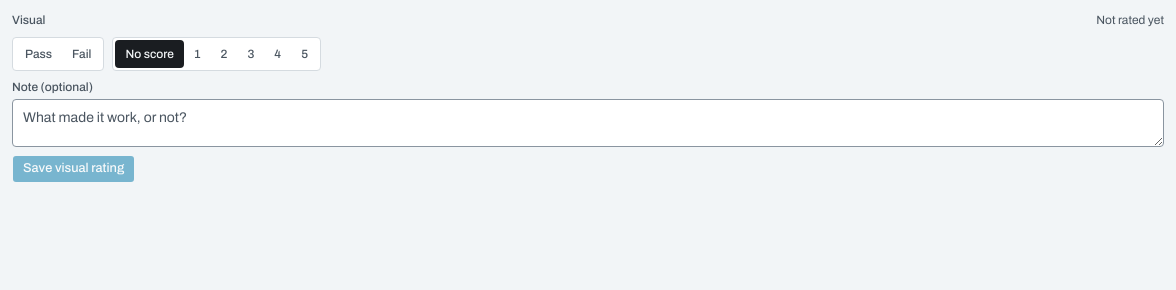
Test: RatingControl fail-reason chips › sends the selected reasons and toggles them off again
Click the button "Fail" at x=82, y=54, box left=62, top=40, right=101, bottom=68
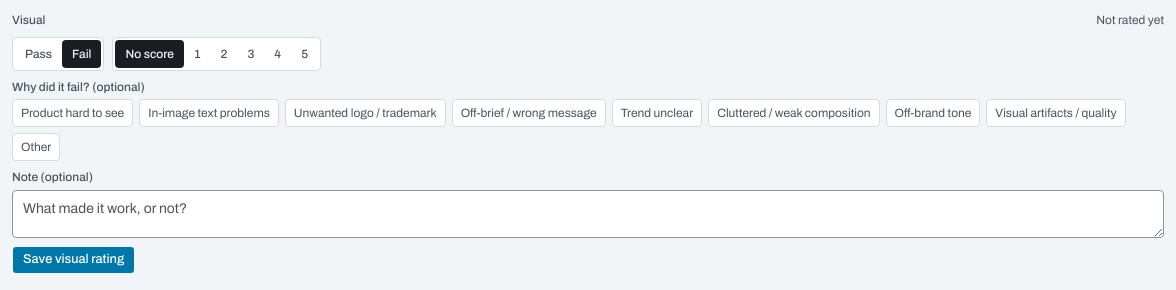
Click the button "Product hard to see" at x=73, y=113, box left=12, top=99, right=133, bottom=127
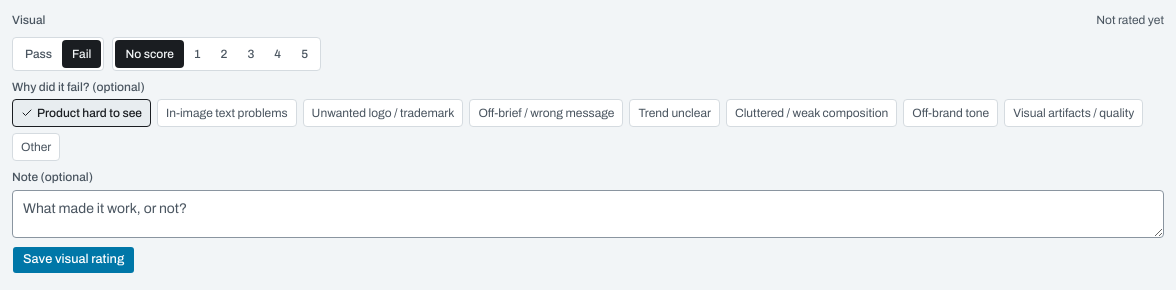
Click the button "In-image text problems" at x=227, y=113, box left=157, top=99, right=297, bottom=127
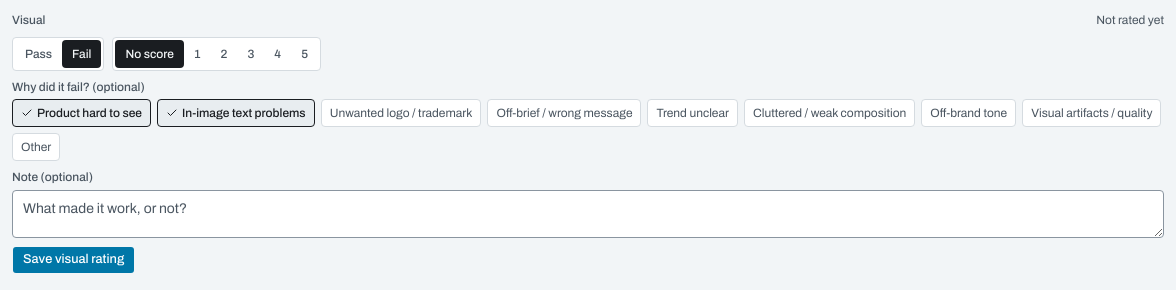
Click the button "Trend unclear" at x=693, y=113, box left=648, top=99, right=738, bottom=127
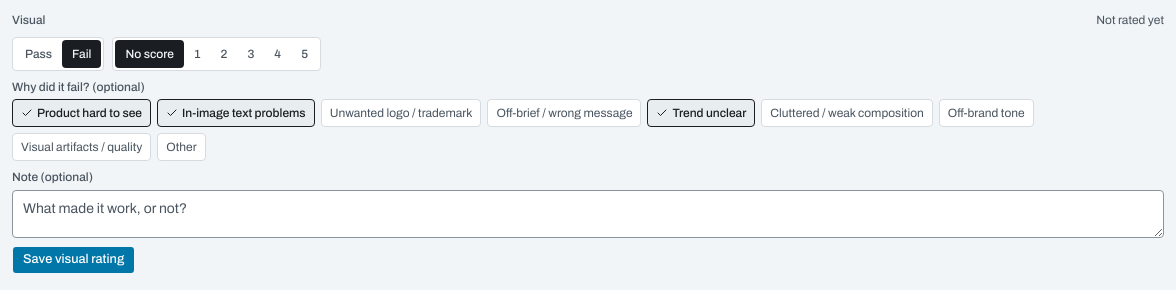
Click the button "Trend unclear" at x=701, y=113, box left=648, top=99, right=755, bottom=127
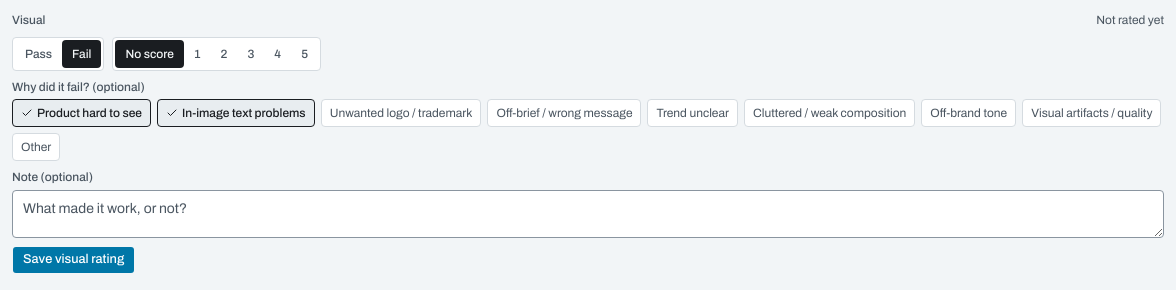
expect the button "Product hard to see" is pressed: met, box left=12, top=99, right=151, bottom=127
expect the button "Trend unclear" is not pressed: met, box left=648, top=99, right=738, bottom=127
Click the button "Save visual rating" at x=74, y=260, box left=12, top=246, right=135, bottom=274
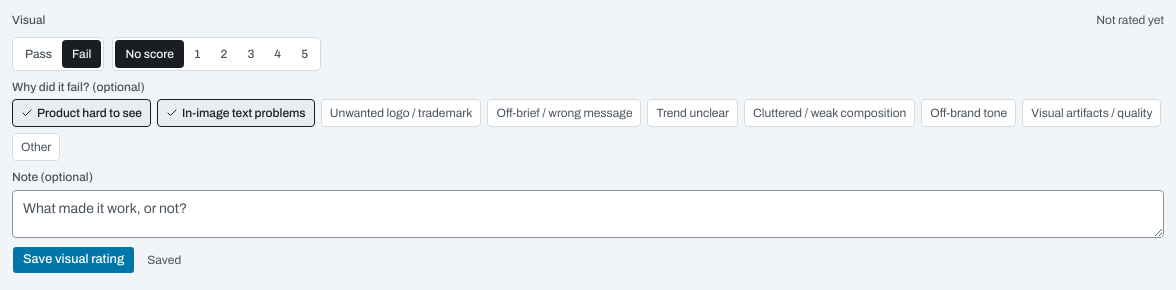
expect the text "Saved" is shown: met, box left=147, top=252, right=181, bottom=266
